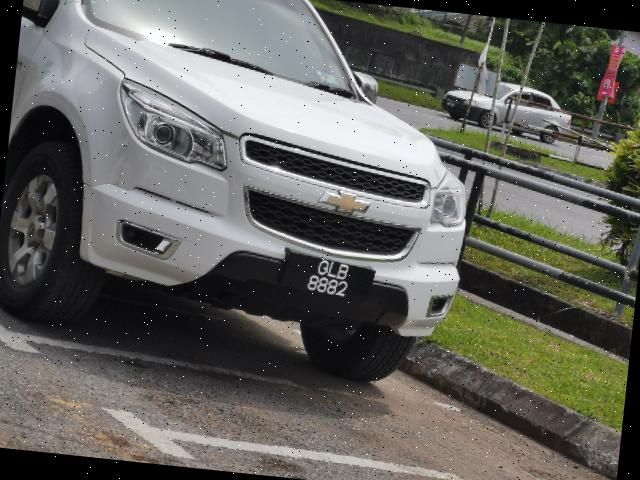License_Plate: (285, 252, 377, 306)
car: (1, 1, 496, 405)
